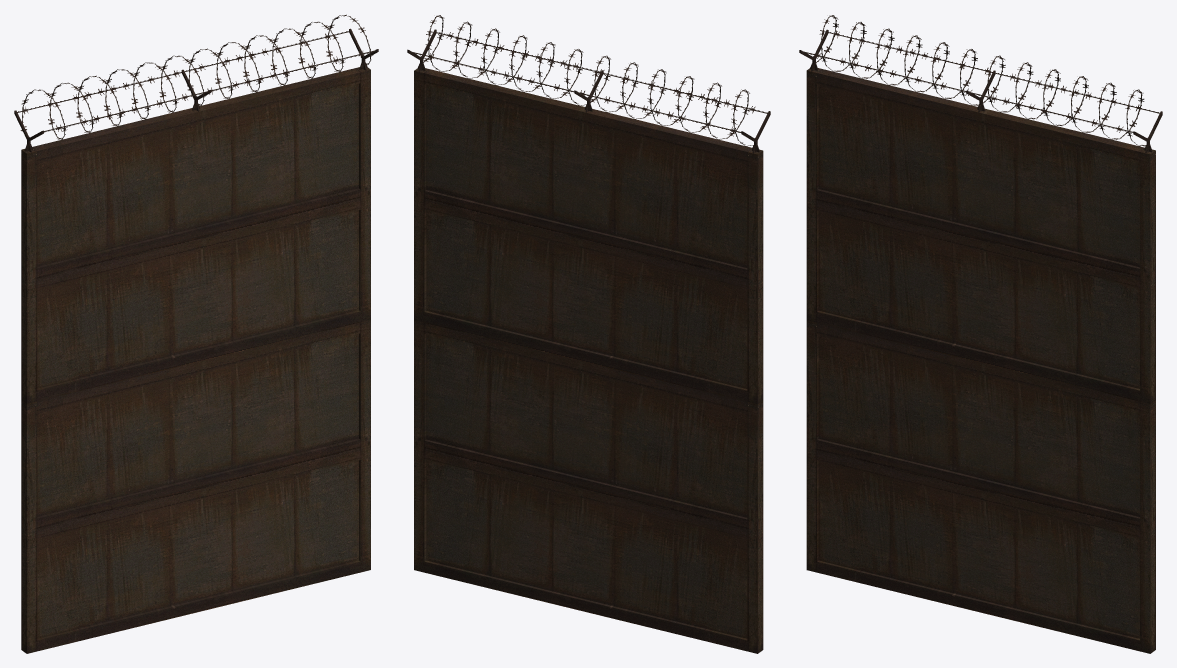
File: metal_fence_hr_2_tall.glb
3 views of the same model, side by side, from view 1: azimuth 30°, elevation 25°; view 2: azimuth 150°, elevation 25°; view 3: azimuth 330°, elevation 25° (orthographic).
Visible parts, largest first — view 1: metal_fence_hr_2_tall; view 2: metal_fence_hr_2_tall; view 3: metal_fence_hr_2_tall.
Boxes of the visible parts, left/top/right/bottom form: metal_fence_hr_2_tall: left=14, top=14, right=378, bottom=653; metal_fence_hr_2_tall: left=407, top=15, right=770, bottom=653; metal_fence_hr_2_tall: left=799, top=15, right=1162, bottom=653.
Bounding box in the file's own units: 3.6 × 5.56 × 0.5551.
2 materials, 2 textured.
